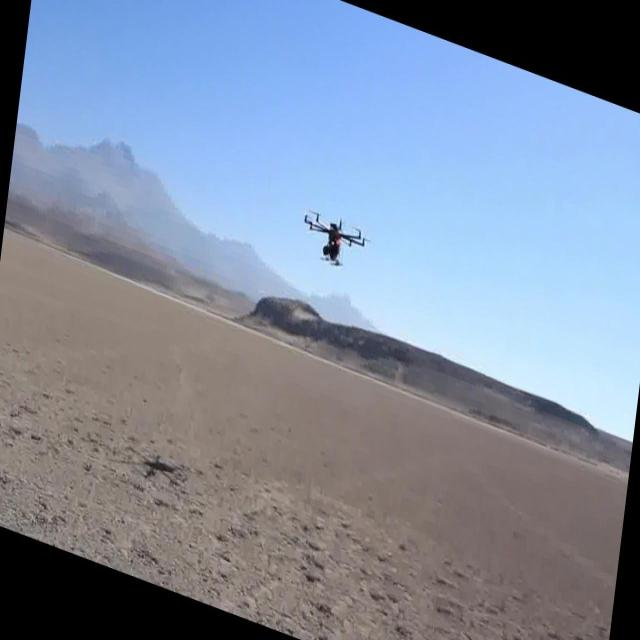drone: (296, 200, 370, 282)
